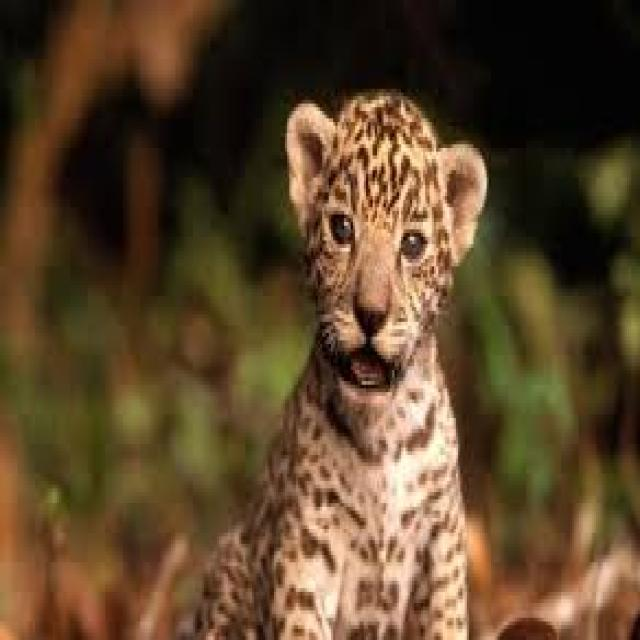Jaguar: (294, 67, 488, 632)
